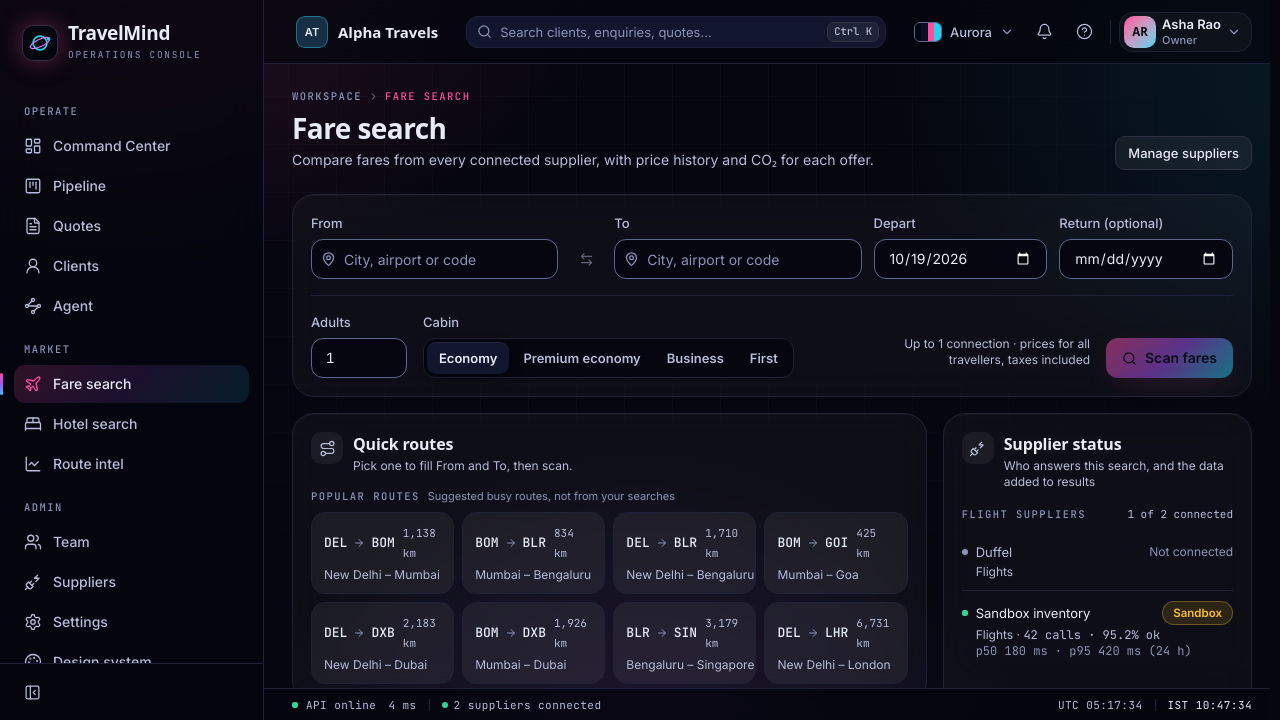
before any search, popular routes are offered and labelled as suggestions
Check: the text "Suggested busy routes, not from your searches" is shown, box [428,488,675,504]
Click the button with aria-label "DEL to BOM": (383, 553) [311,512,454,594]
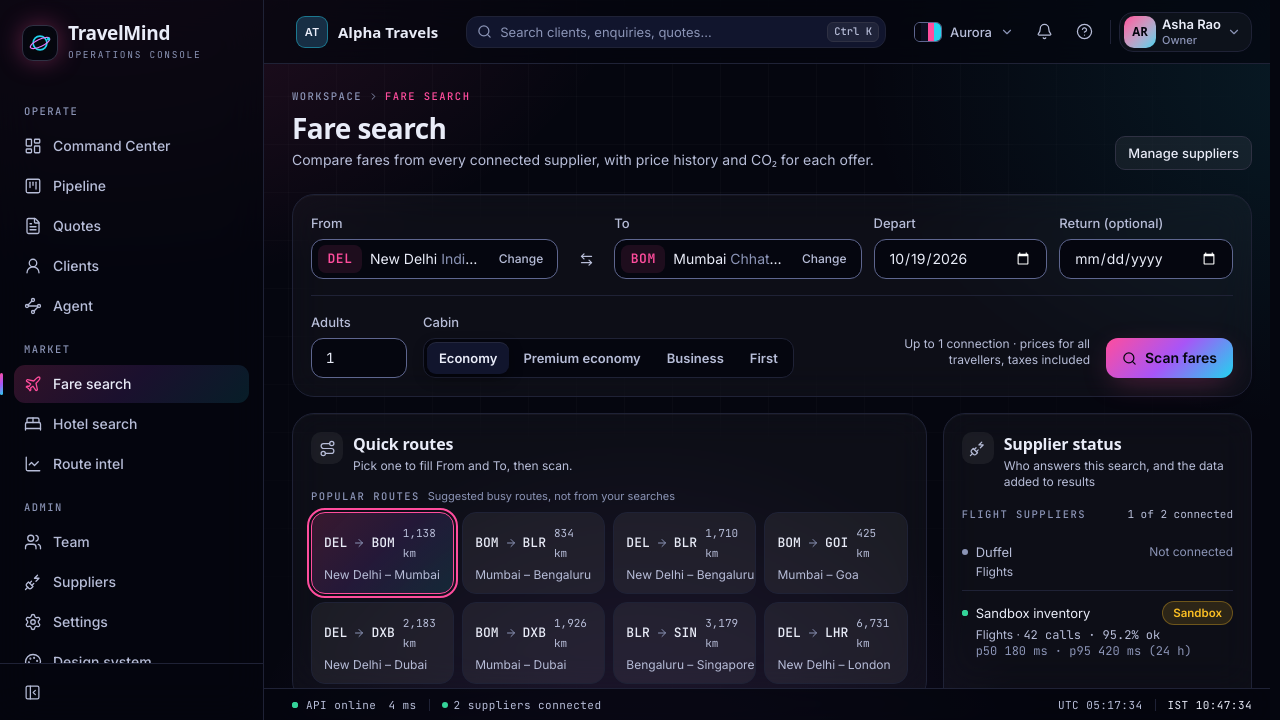
Check: the text "DEL" is shown, box [318,245,362,273]
Check: the text "BOM" is shown, box [621,245,665,273]
Check: the button "Scan fares" is enabled, box [1106,338,1233,378]
